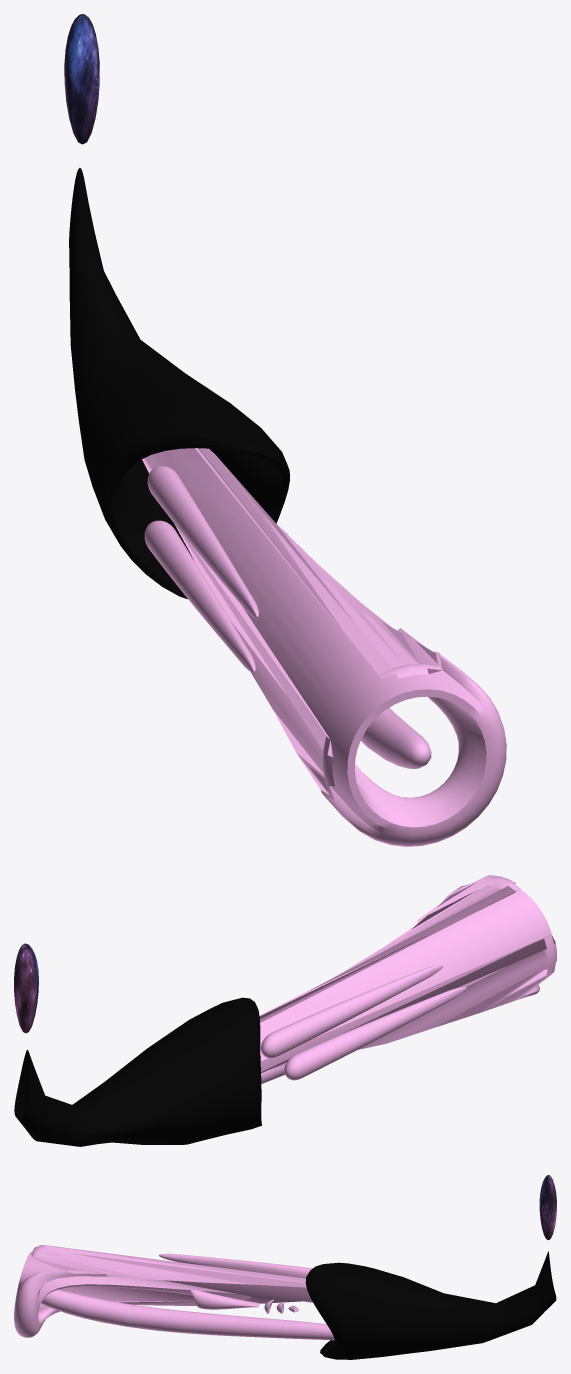
Rendered from isthisheaven.glb.
3 renders of one model, top to bottom at view 1: azimuth 30°, elevation 25°; view 2: azimuth 150°, elevation 25°; view 3: azimuth 270°, elevation 25°, orthographic. The views are drawn at different scales.
Visible parts, largest first — view 1: torus, body, blob; view 2: torus, body, blob; view 3: torus, body, blob.
Boxes of the visible parts, x1,y1,x2,y2 form: torus: [142, 448, 506, 846]; body: [69, 168, 289, 598]; blob: [64, 14, 99, 144]; torus: [259, 875, 556, 1083]; body: [14, 997, 261, 1146]; blob: [14, 943, 38, 1033]; torus: [14, 1245, 334, 1340]; body: [305, 1251, 556, 1359]; blob: [539, 1175, 556, 1240].
Bounding box in the file's own units: 0.9003 × 1.26 × 3.06.
3 materials, 1 textured.
